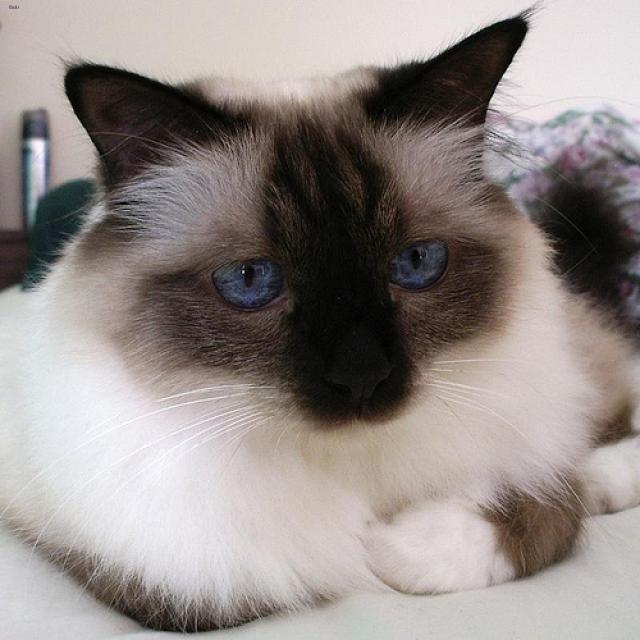Birman: (56, 7, 545, 488)
